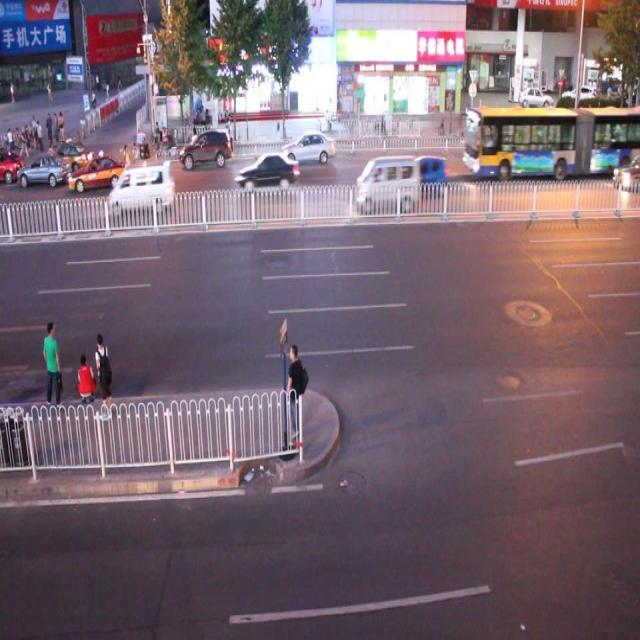car: (235, 152, 297, 193), (179, 127, 233, 167), (68, 154, 125, 190), (280, 129, 335, 164), (18, 153, 70, 186), (411, 155, 446, 196), (48, 141, 92, 170), (1, 147, 23, 182)
truck: (356, 156, 419, 210), (107, 165, 173, 214)
van: (462, 103, 640, 184)
